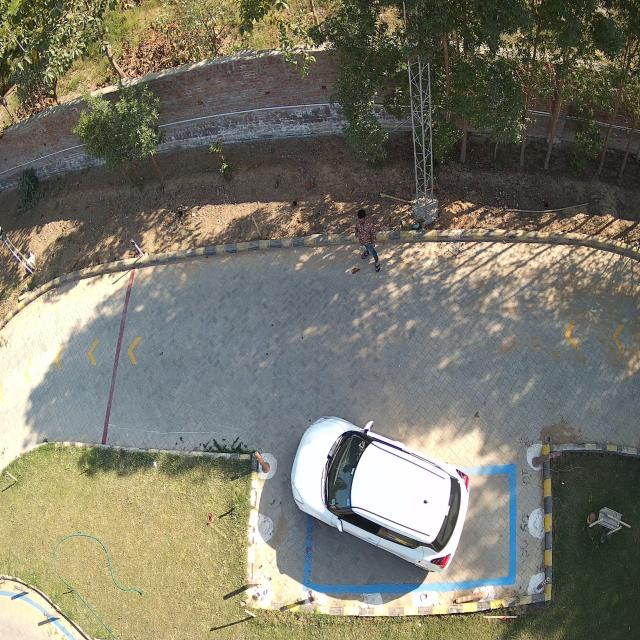car: (290, 419, 469, 572)
